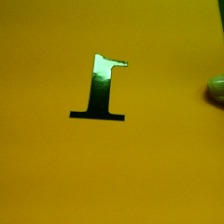orange1: (66, 48, 130, 127)
